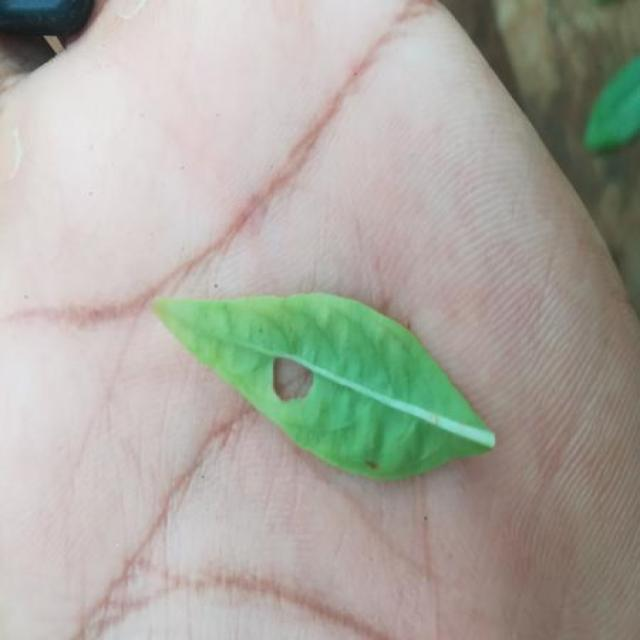Nelavembu: (155, 294, 495, 479)
